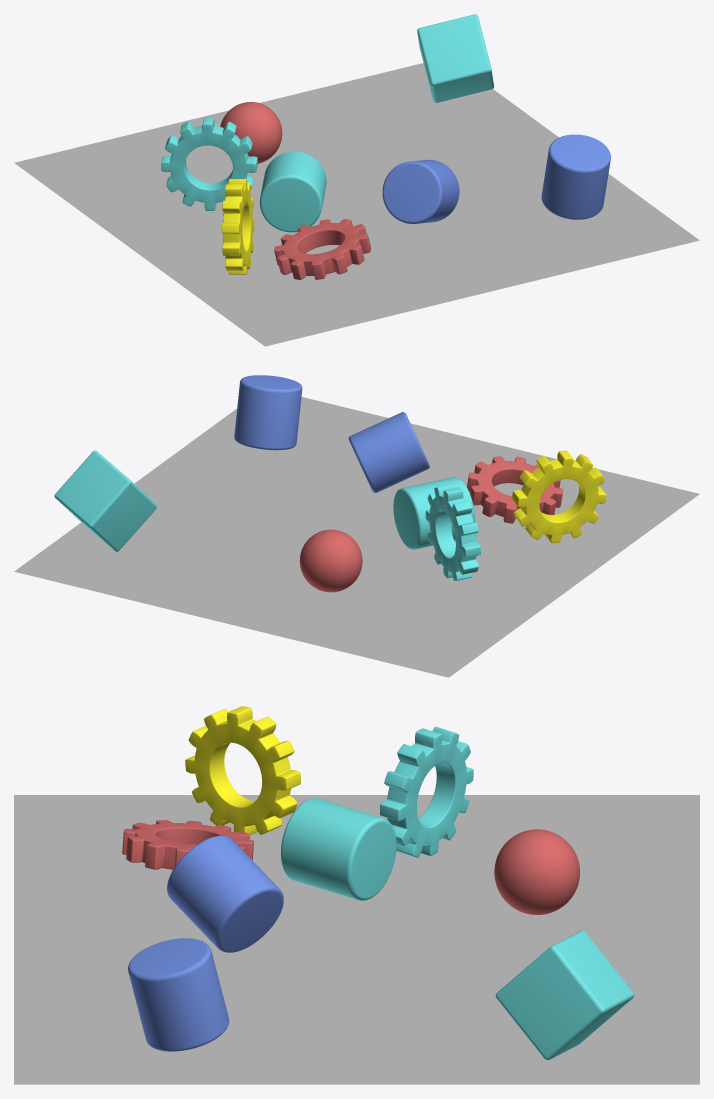
The picture shows the model from 3 angles, top to bottom: view 1: azimuth 30°, elevation 25°; view 2: azimuth 150°, elevation 25°; view 3: azimuth 270°, elevation 25°; orthographic projection. The views are drawn at different scales.
Visible parts, largest first — view 1: Cube, FileBasedObject.002, FileBasedObject.001, FileBasedObject.006, FileBasedObject.003, FileBasedObject.007, FileBasedObject.005, FileBasedObject.004, FileBasedObject; view 2: Cube, FileBasedObject.002, FileBasedObject.004, FileBasedObject.001, FileBasedObject.005, FileBasedObject.006, FileBasedObject.007, FileBasedObject, FileBasedObject.003; view 3: Cube, FileBasedObject.002, FileBasedObject.004, FileBasedObject.003, FileBasedObject.005, FileBasedObject.001, FileBasedObject.006, FileBasedObject, FileBasedObject.007.
Boxes of the visible parts, bbox=[...] form: Cube: bbox=[14, 63, 699, 346]; FileBasedObject.002: bbox=[417, 14, 494, 102]; FileBasedObject.001: bbox=[541, 134, 610, 219]; FileBasedObject.006: bbox=[161, 117, 257, 211]; FileBasedObject.003: bbox=[259, 151, 326, 232]; FileBasedObject.007: bbox=[274, 219, 370, 279]; FileBasedObject.005: bbox=[382, 159, 459, 223]; FileBasedObject.004: bbox=[221, 179, 254, 274]; FileBasedObject: bbox=[220, 102, 282, 163]; Cube: bbox=[14, 397, 699, 677]; FileBasedObject.002: bbox=[54, 450, 157, 551]; FileBasedObject.004: bbox=[512, 450, 606, 543]; FileBasedObject.001: bbox=[234, 375, 302, 450]; FileBasedObject.005: bbox=[348, 412, 429, 492]; FileBasedObject.006: bbox=[425, 484, 480, 580]; FileBasedObject.007: bbox=[467, 456, 563, 523]; FileBasedObject: bbox=[299, 529, 362, 592]; FileBasedObject.003: bbox=[393, 477, 474, 549]; Cube: bbox=[14, 795, 699, 1084]; FileBasedObject.002: bbox=[495, 930, 634, 1060]; FileBasedObject.004: bbox=[185, 706, 300, 834]; FileBasedObject.003: bbox=[280, 798, 396, 900]; FileBasedObject.005: bbox=[167, 835, 283, 952]; FileBasedObject.001: bbox=[128, 938, 229, 1051]; FileBasedObject.006: bbox=[380, 726, 473, 857]; FileBasedObject: bbox=[494, 829, 579, 914]; FileBasedObject.007: bbox=[122, 820, 253, 869].
Size of the model in its own units: 8 by 1.62 by 8.
